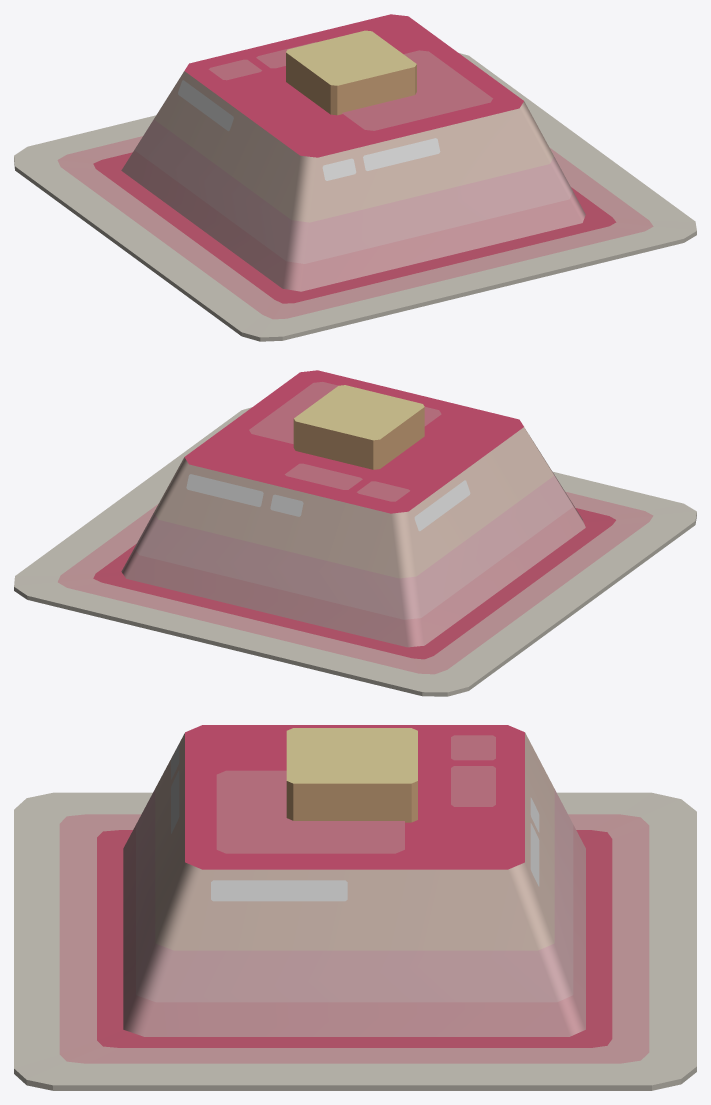
The model's file is BC_cookrecipe_19.fbx.
3 renders of one model, top to bottom at view 1: azimuth 30°, elevation 25°; view 2: azimuth 150°, elevation 25°; view 3: azimuth 270°, elevation 25°, orthographic. The views are drawn at different scales.
Visible parts, largest first — view 1: BC_cookrecipe_19, base; view 2: BC_cookrecipe_19, base; view 3: BC_cookrecipe_19, base.
Part boxes in pixels (box(x1,y1,x2,y2)): BC_cookrecipe_19: box(121, 14, 585, 291); base: box(14, 53, 696, 341); BC_cookrecipe_19: box(121, 370, 585, 647); base: box(14, 407, 696, 696); BC_cookrecipe_19: box(123, 725, 585, 1036); base: box(14, 792, 696, 1090).
Bounding box in the file's own units: 3.47 × 1.03 × 3.42.
